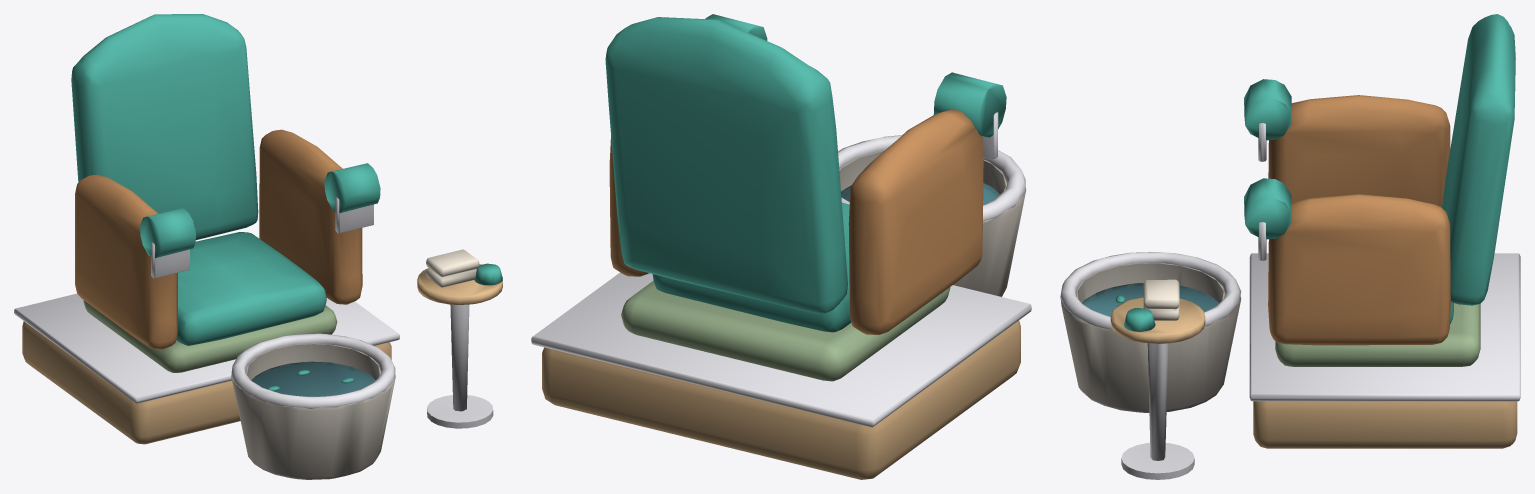
The model's file is pedicure-chair-spa.glb.
3 renders of one model, left to right at view 1: azimuth 30°, elevation 25°; view 2: azimuth 150°, elevation 25°; view 3: azimuth 270°, elevation 25°, orthographic. The views are drawn at different scales.
Visible parts, largest first — view 1: pedicure-chair-spa; view 2: pedicure-chair-spa; view 3: pedicure-chair-spa.
Boxes of the visible parts, x1,y1,x2,y2 form: pedicure-chair-spa: [14, 14, 502, 479]; pedicure-chair-spa: [531, 14, 1031, 479]; pedicure-chair-spa: [1060, 14, 1520, 479].
Bounding box in the file's own units: 1.11 × 1.07 × 1.26.
